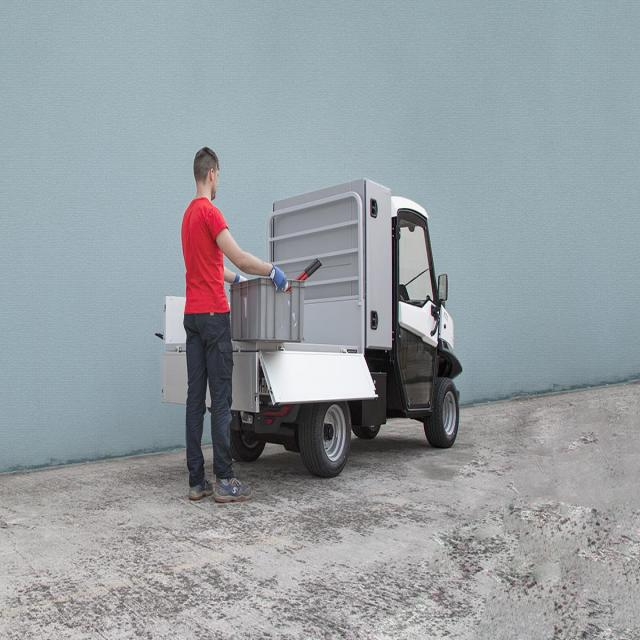truck: (231, 180, 461, 475)
